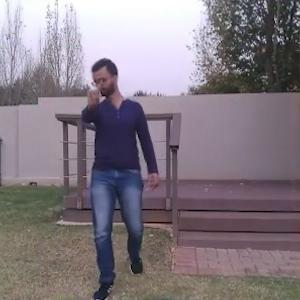takeoff-hand: (83, 76, 103, 111)
